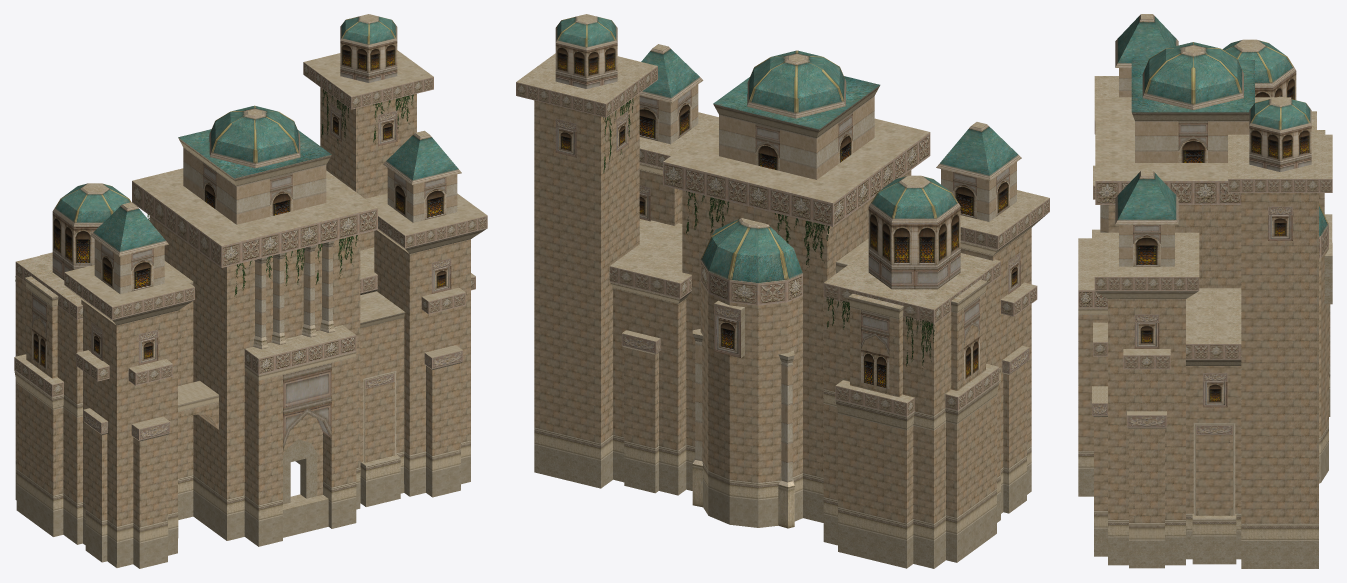
Rendered from thm_nboo_block_bldg_32x16_s01_r0_mesh_l1.fbx.
3 views of the same model, side by side, from view 1: azimuth 30°, elevation 25°; view 2: azimuth 150°, elevation 25°; view 3: azimuth 270°, elevation 25° (orthographic). The views are drawn at different scales.
Visible parts, largest first — view 1: mesh_node; view 2: mesh_node; view 3: mesh_node.
Part boxes in pixels (x1,y1,x2,y2): mesh_node: [14, 14, 487, 568]; mesh_node: [516, 14, 1049, 568]; mesh_node: [1078, 14, 1332, 568].
Size of the model in its own units: 31.9 by 32.26 by 16.46.
